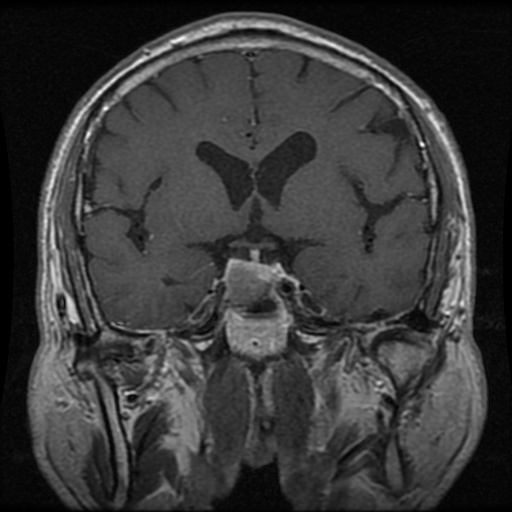pituitary: (223, 249, 282, 304)
